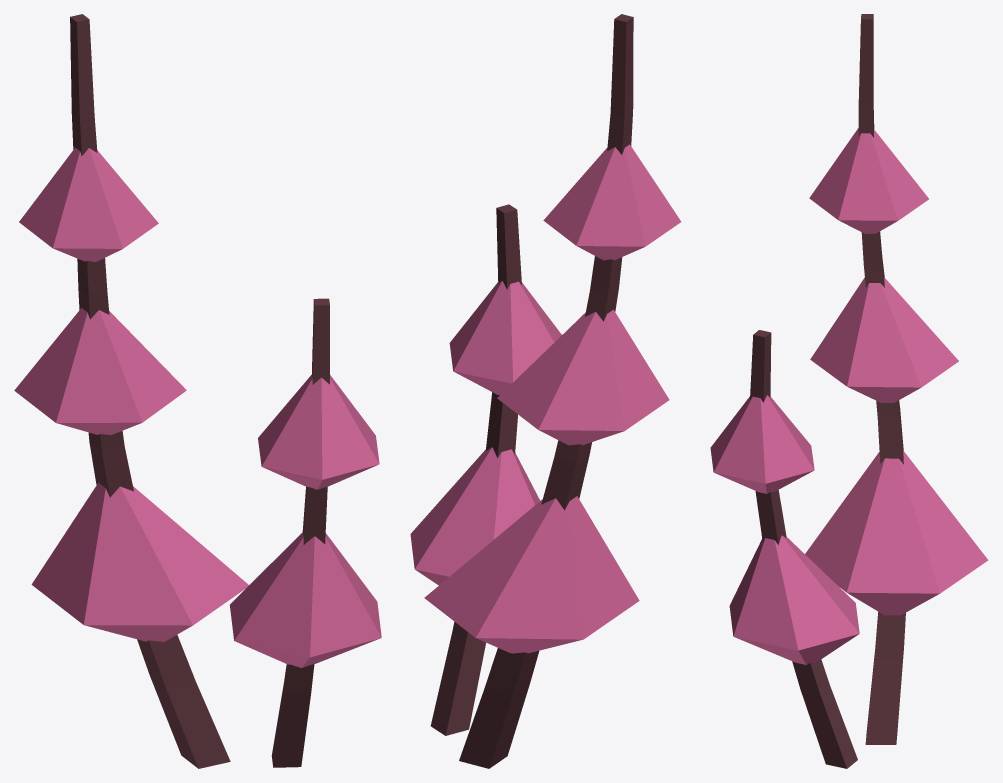
Rendered from scifi-plant-baggy-medium.fbx.
The picture shows the model from 3 angles, left to right: view 1: azimuth 30°, elevation 25°; view 2: azimuth 150°, elevation 25°; view 3: azimuth 270°, elevation 25°; orthographic projection. The views are drawn at different scales.
Visible parts, largest first — view 1: scifi-plant-baggy-medium; view 2: scifi-plant-baggy-medium; view 3: scifi-plant-baggy-medium.
Part boxes in pixels (bbox=[...]): scifi-plant-baggy-medium: bbox=[14, 14, 381, 768]; scifi-plant-baggy-medium: bbox=[410, 14, 681, 768]; scifi-plant-baggy-medium: bbox=[710, 14, 988, 768].
Size of the model in its own units: 0.5766 by 1.43 by 0.5417.
